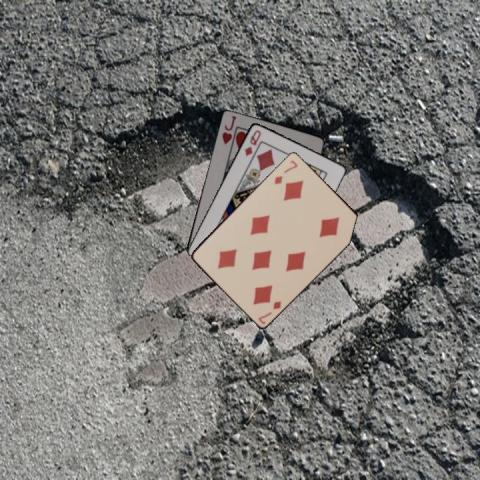7d: (271, 157, 299, 185), (255, 298, 283, 326)
Jh: (219, 113, 238, 145)
Qd: (241, 127, 263, 157)
